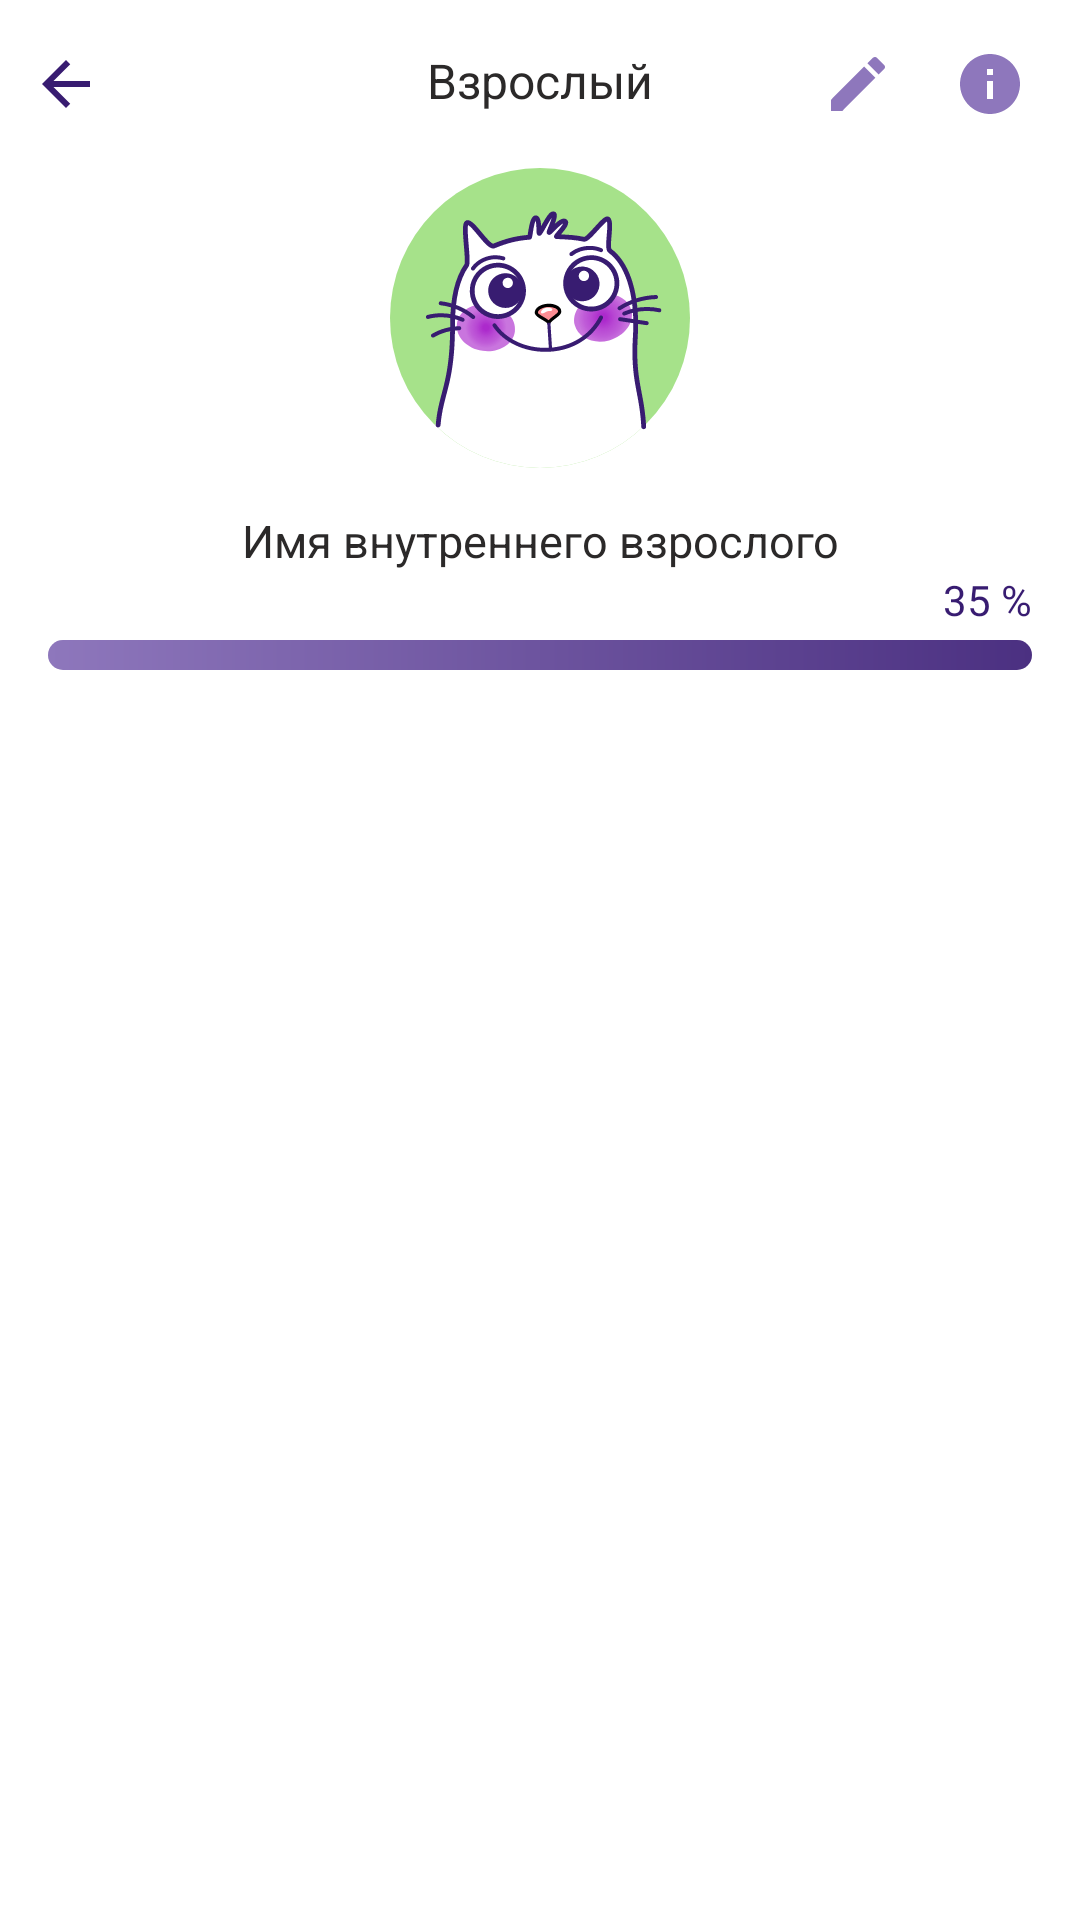

Icon bounding boxes for this 1080x1920 phone screenshot, format (x1, y1, x2, y2):
arrow back: (42, 60, 90, 108)
edit: (831, 57, 885, 111)
info: (960, 54, 1020, 114)
